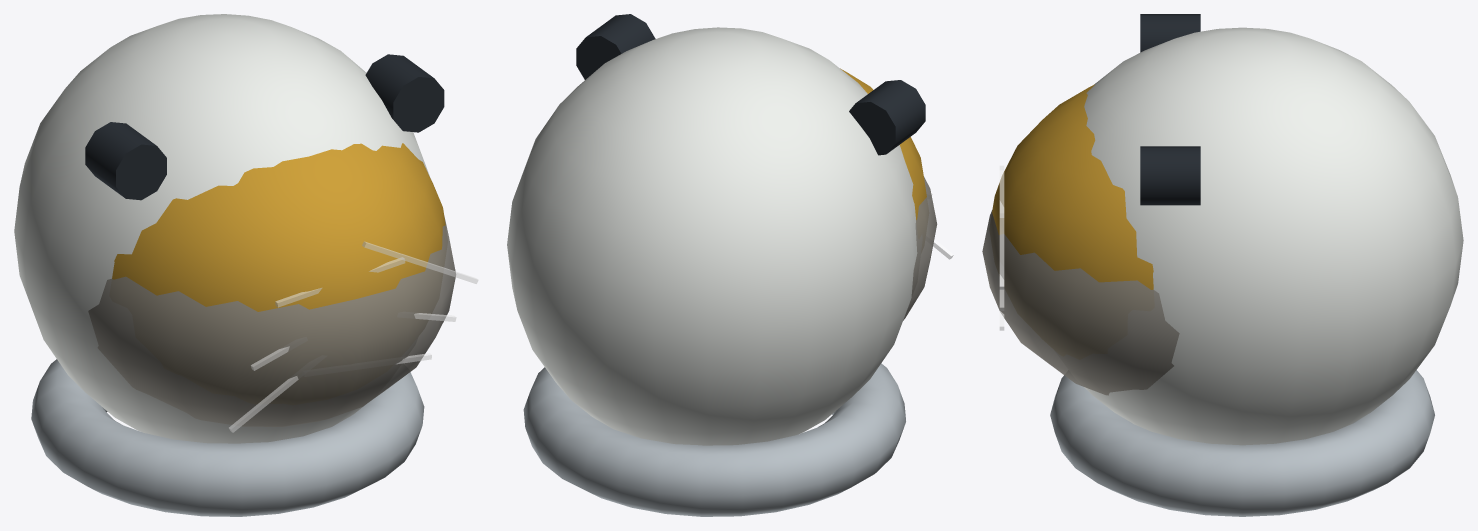
File: eva-helmet.glb
The picture shows the model from 3 angles, left to right: view 1: azimuth 30°, elevation 25°; view 2: azimuth 150°, elevation 25°; view 3: azimuth 270°, elevation 25°; orthographic projection. The views are drawn at different scales.
Parts seen in each view (by area): view 1: eva-helmet-hull-white, visor-gold, dust_visor-moon-dust-coat, eva-helmet-aluminium, eva-helmet-dark-polymer, scratches-visor-scratch; view 2: eva-helmet-hull-white, eva-helmet-aluminium, eva-helmet-dark-polymer, dust_visor-moon-dust-coat, visor-gold; view 3: eva-helmet-hull-white, eva-helmet-aluminium, dust_visor-moon-dust-coat, visor-gold, eva-helmet-dark-polymer, scratches-visor-scratch.
Part boxes in pixels (x1,y1,x2,y2): eva-helmet-hull-white: [14, 14, 430, 443]; visor-gold: [112, 143, 445, 311]; dust_visor-moon-dust-coat: [88, 216, 455, 426]; eva-helmet-aluminium: [31, 359, 424, 516]; eva-helmet-dark-polymer: [85, 54, 444, 200]; scratches-visor-scratch: [229, 241, 478, 432]; eva-helmet-hull-white: [507, 27, 917, 445]; eva-helmet-aluminium: [523, 363, 905, 516]; eva-helmet-dark-polymer: [576, 14, 925, 155]; dust_visor-moon-dust-coat: [903, 177, 937, 320]; visor-gold: [840, 68, 926, 220]; eva-helmet-hull-white: [1084, 27, 1463, 445]; eva-helmet-aluminium: [1050, 370, 1434, 516]; dust_visor-moon-dust-coat: [982, 210, 1179, 395]; visor-gold: [992, 84, 1153, 289]; eva-helmet-dark-polymer: [1140, 14, 1200, 205]; scratches-visor-scratch: [999, 165, 1004, 330].
Bounding box in the file's own units: 0.34 × 0.367 × 0.3999.
